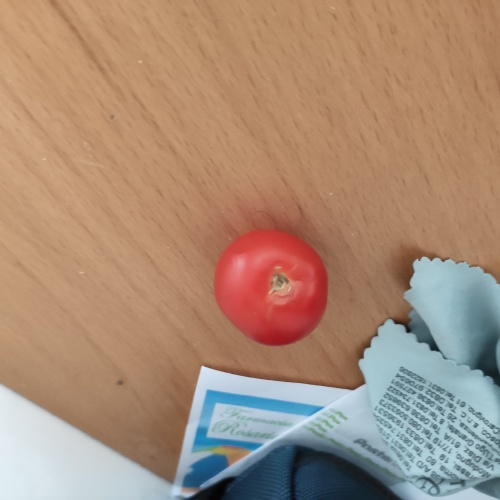pomodoro: (209, 225, 344, 354)
